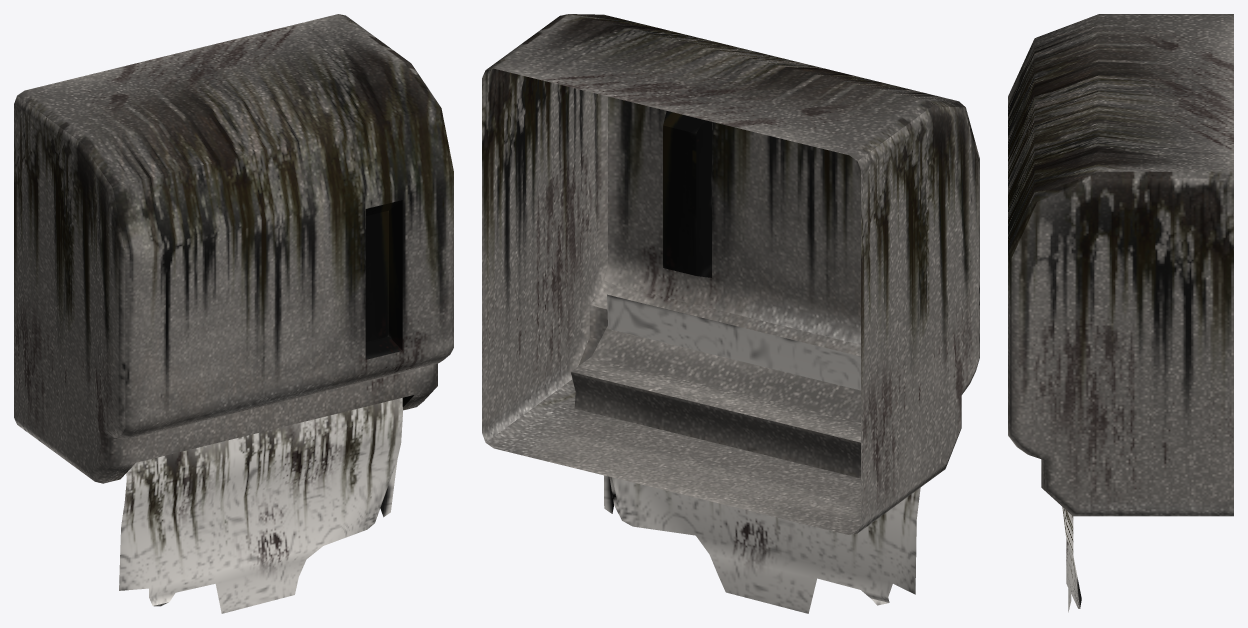
Rendered from TowelDispenser.fbx.
3 views of the same model, side by side, from view 1: azimuth 30°, elevation 25°; view 2: azimuth 150°, elevation 25°; view 3: azimuth 270°, elevation 25° (orthographic). The views are drawn at different scales.
Visible parts, largest first — view 1: pCube369; view 2: pCube369; view 3: pCube369.
Boxes of the visible parts, box(x1,y1,x2,y2) form: pCube369: box(14, 14, 453, 613); pCube369: box(482, 14, 979, 613); pCube369: box(1008, 14, 1233, 612).
Size of the model in its own units: 95.82 by 135 by 54.49.
Materials: 1 (1 with a texture image).
